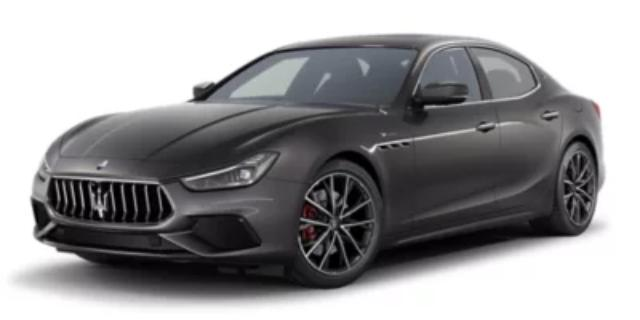maserati: (31, 34, 605, 288)
